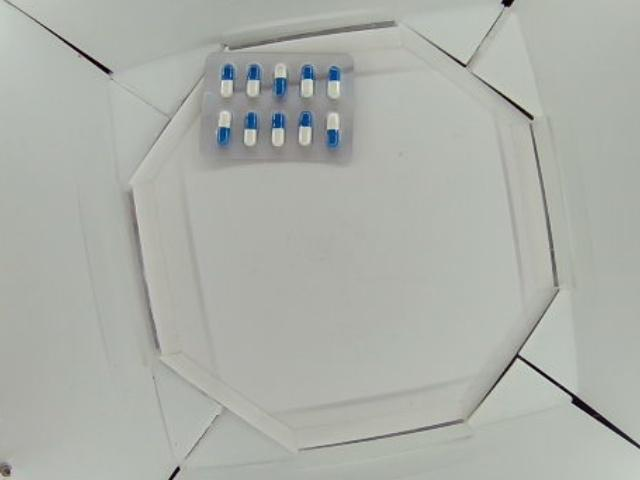Medicine: (201, 51, 358, 167)
